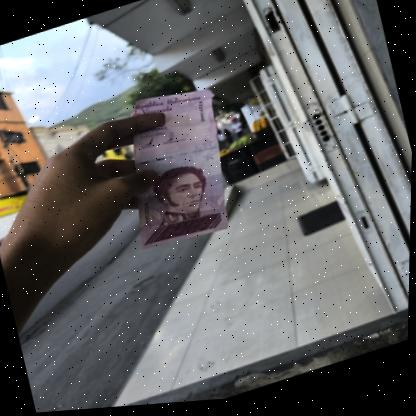one_hundred-front-vef: (107, 79, 246, 261)
